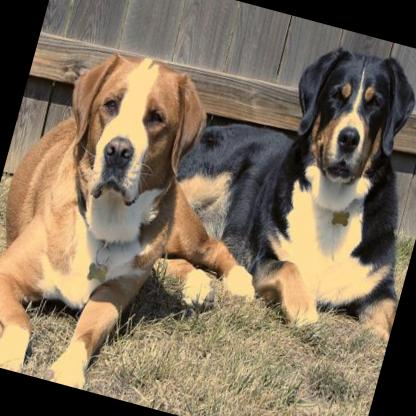Greater_Swiss_Mountain_dog: (0, 25, 307, 416), (142, 9, 416, 352)
